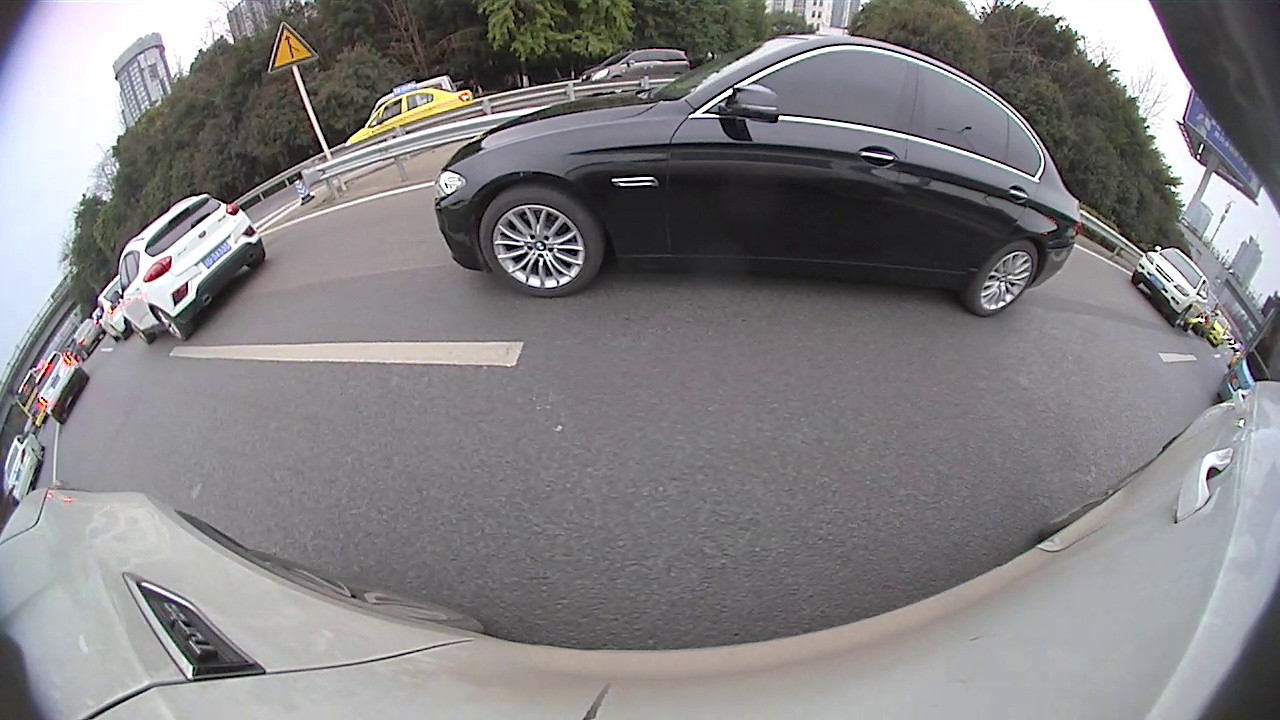car: (432, 31, 1085, 320), (117, 191, 266, 343), (343, 85, 477, 156), (1128, 244, 1209, 334), (580, 46, 694, 90), (33, 347, 90, 428), (1, 434, 45, 509), (94, 269, 129, 346)
front: (477, 182, 606, 301), (1170, 305, 1192, 330)
rear: (967, 237, 1041, 319), (151, 302, 188, 342)
